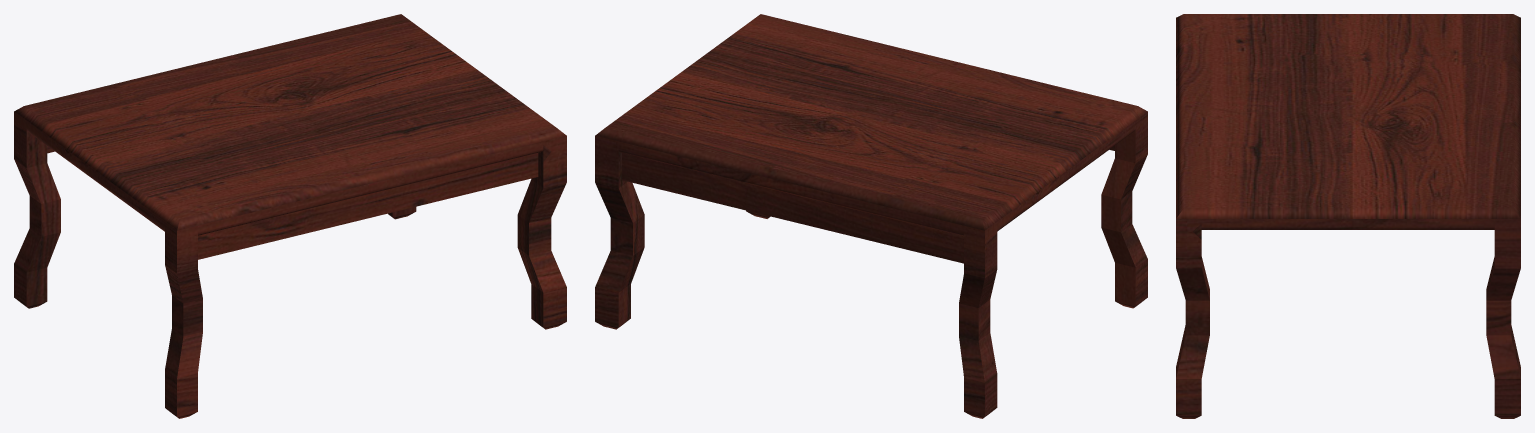
Rendered from table.glb.
3 renders of one model, left to right at view 1: azimuth 30°, elevation 25°; view 2: azimuth 150°, elevation 25°; view 3: azimuth 270°, elevation 25°, orthographic. The views are drawn at different scales.
Visible parts, largest first — view 1: Cube.002; view 2: Cube.002; view 3: Cube.002.
Boxes of the visible parts, <box> form: Cube.002: <box>14,14,566,418</box>; Cube.002: <box>595,14,1147,418</box>; Cube.002: <box>1176,14,1520,418</box>.
Bounding box in the file's own units: 4.78 × 2.33 × 3.46.
Materials: 1 (1 with a texture image).
